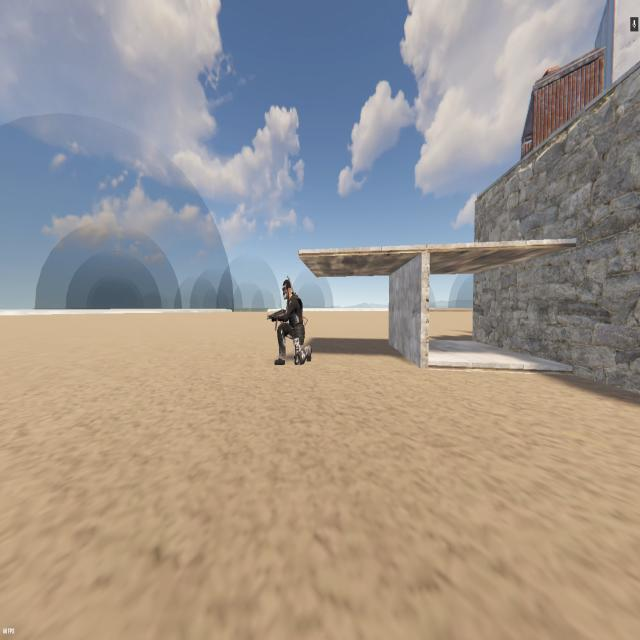Player: (272, 274, 313, 369)
